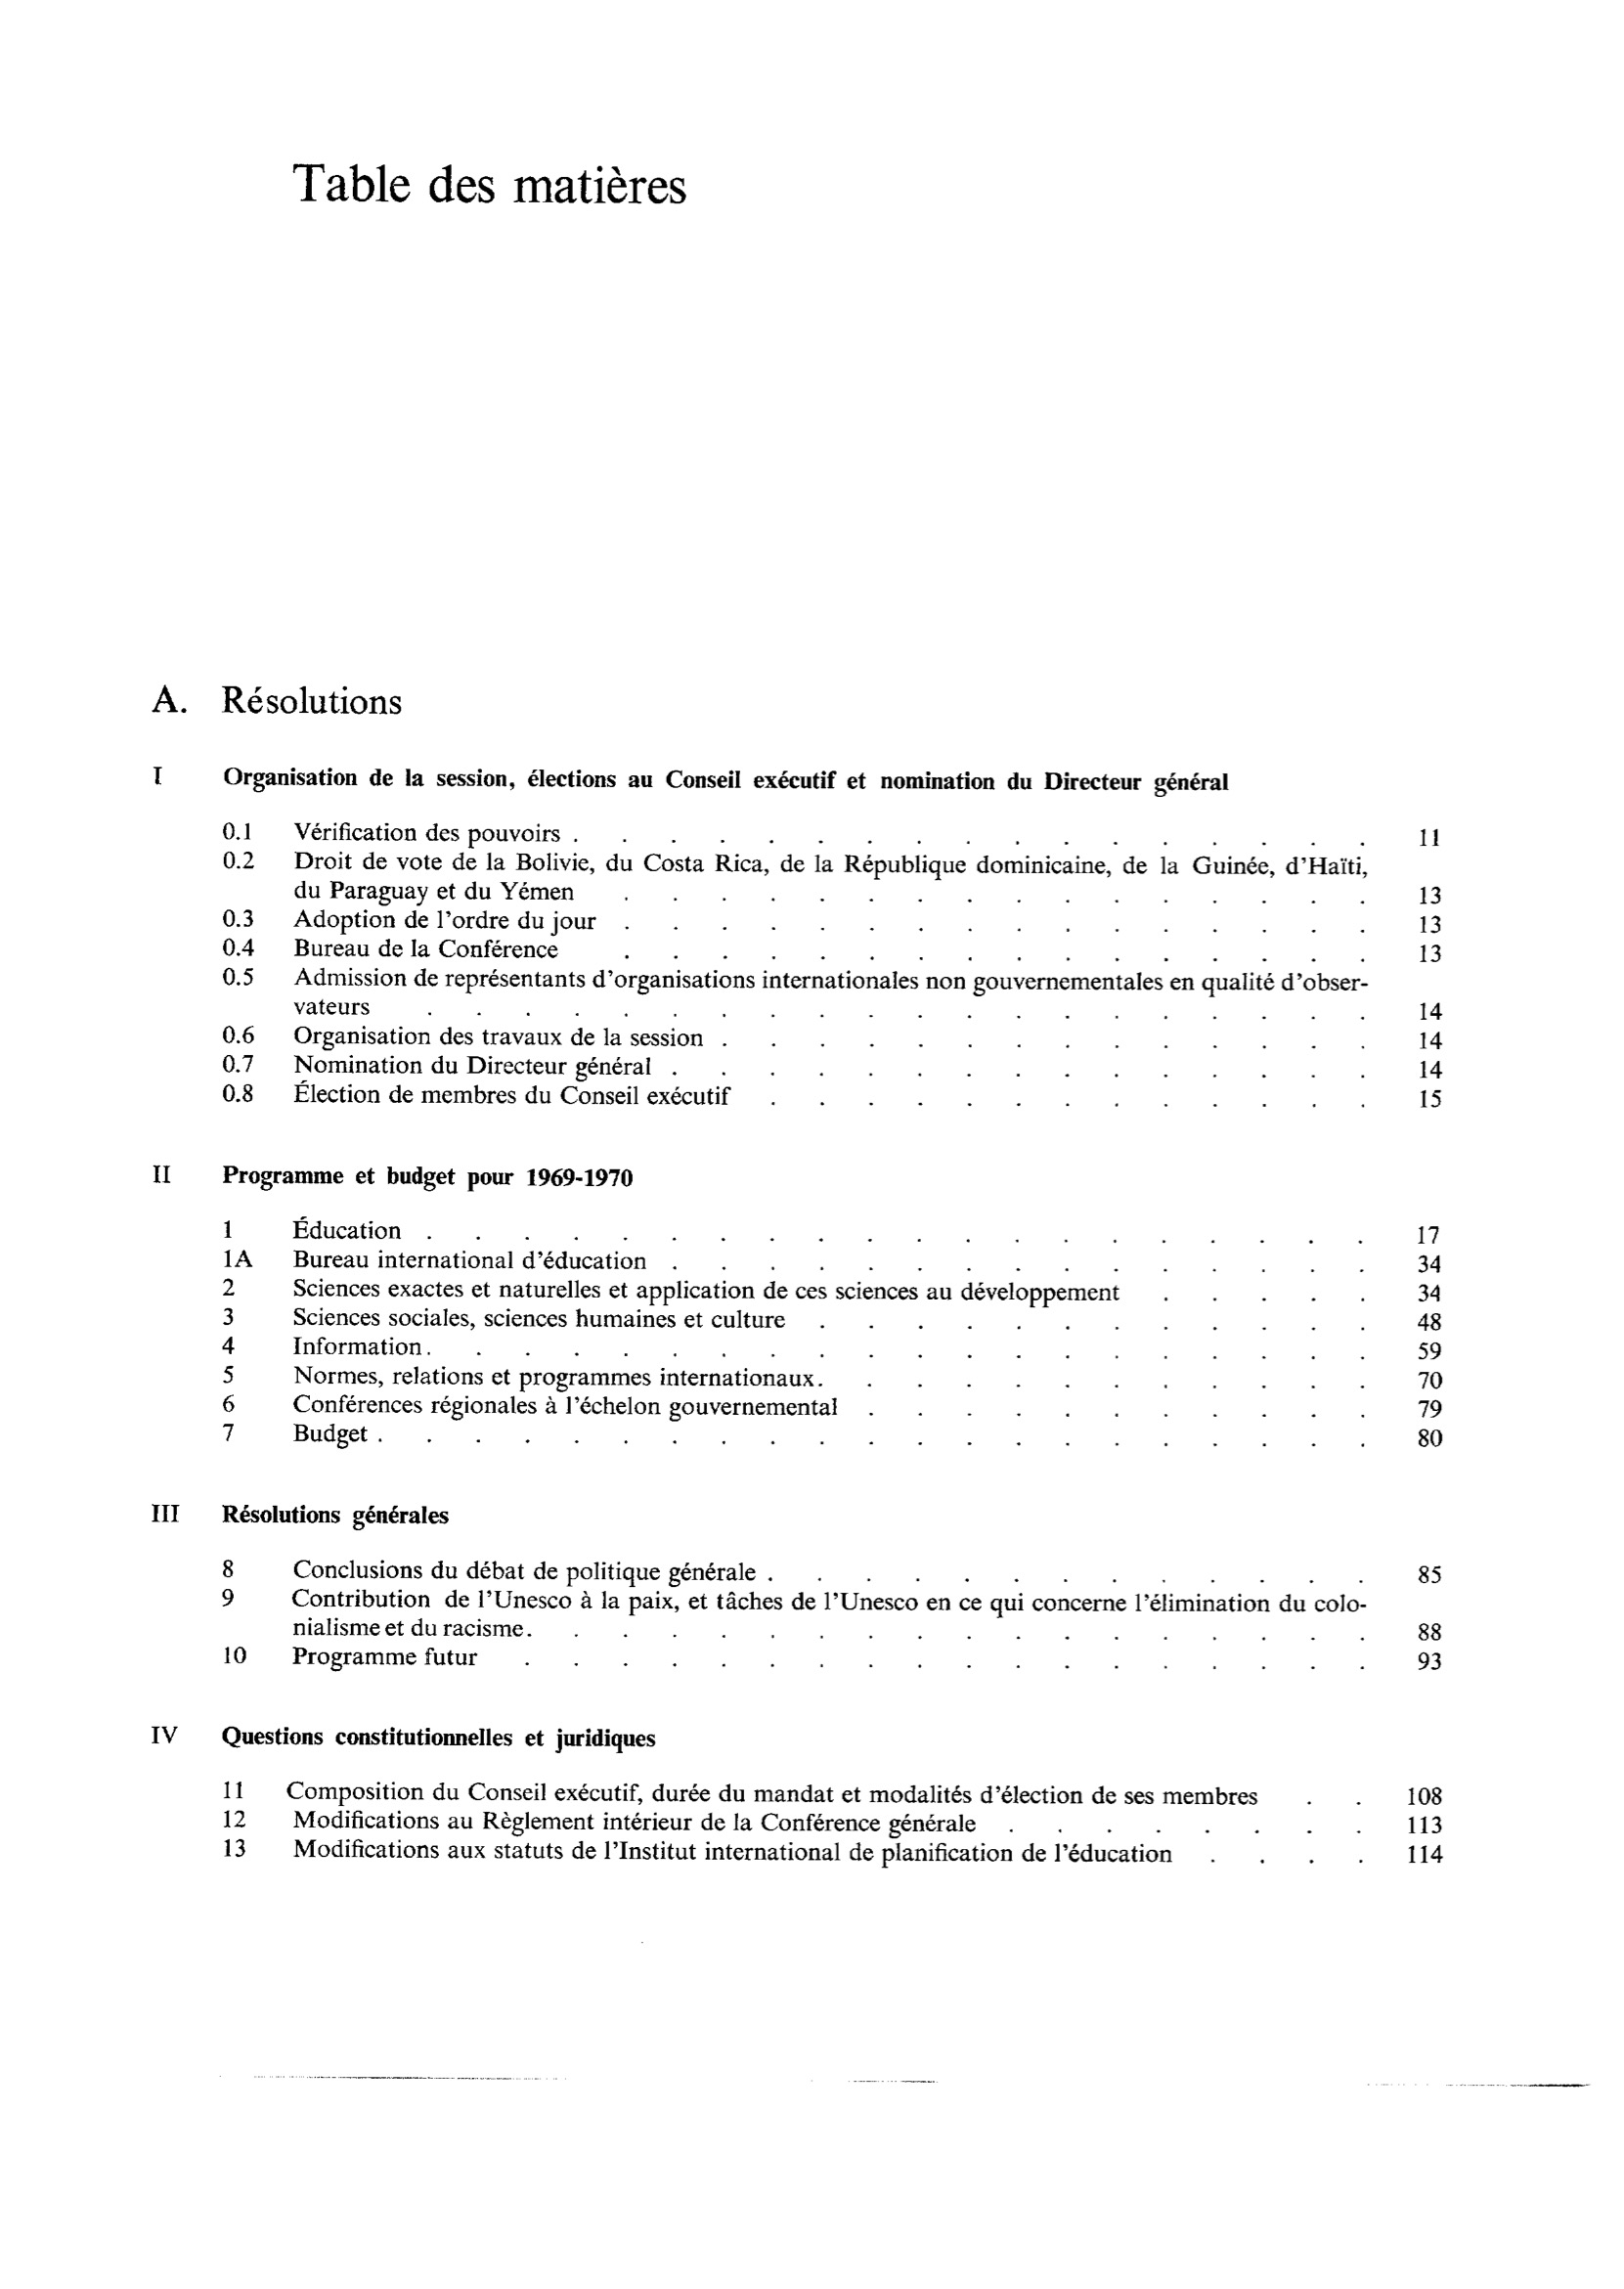MainZone-Head: (275, 145, 701, 227), (135, 671, 415, 727)
QuireMarksZone: (122, 760, 1491, 1902)
